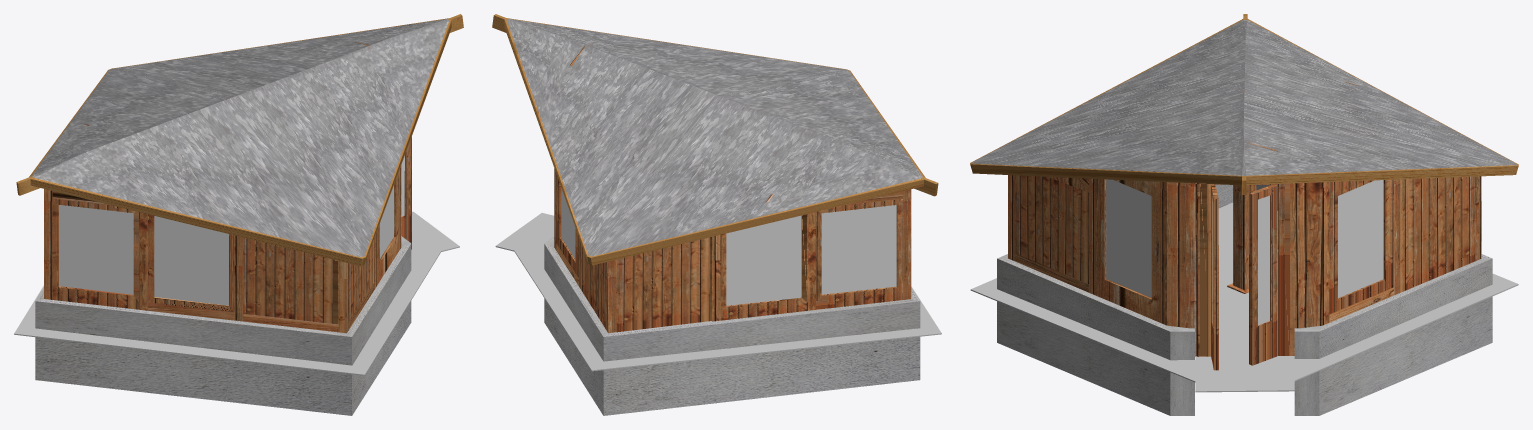
Rendered from SkillBoxPraticeBlender(4.2)test2.fbx.
3 renders of one model, left to right at view 1: azimuth 30°, elevation 25°; view 2: azimuth 150°, elevation 25°; view 3: azimuth 270°, elevation 25°, orthographic. The views are drawn at different scales.
Parts seen in each view (by area): view 1: Home; view 2: Home; view 3: Home.
Part boxes in pixels (x1,y1,x2,y2): Home: [14, 14, 463, 415]; Home: [492, 14, 941, 415]; Home: [970, 14, 1518, 415].
Bounding box in the file's own units: 893 × 497 × 885.
